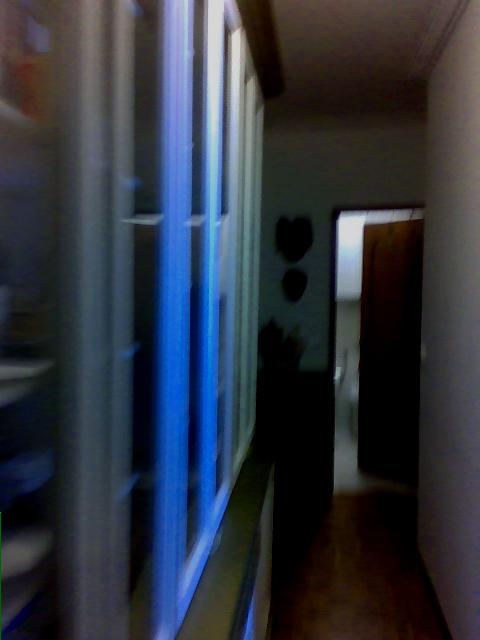semi_door: (330, 202, 426, 504)
